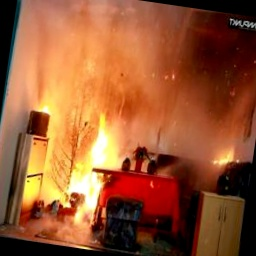fire: (29, 90, 128, 223)
